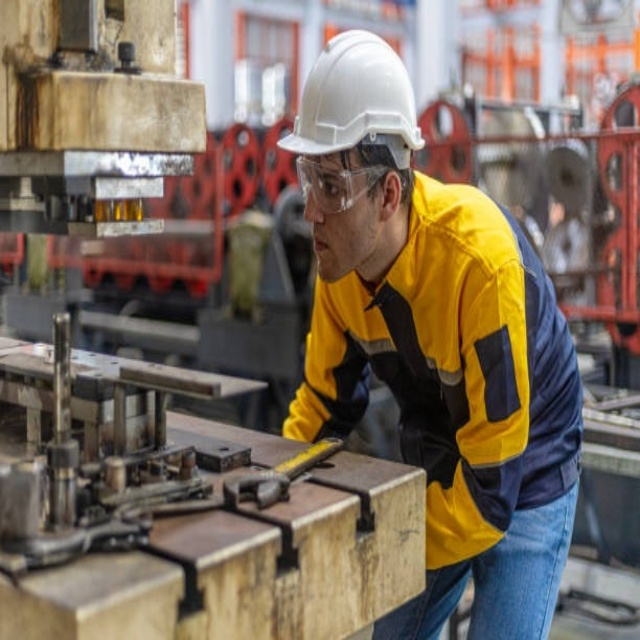Gafas: (297, 150, 396, 213)
Sin_mascara: (308, 223, 350, 279)
